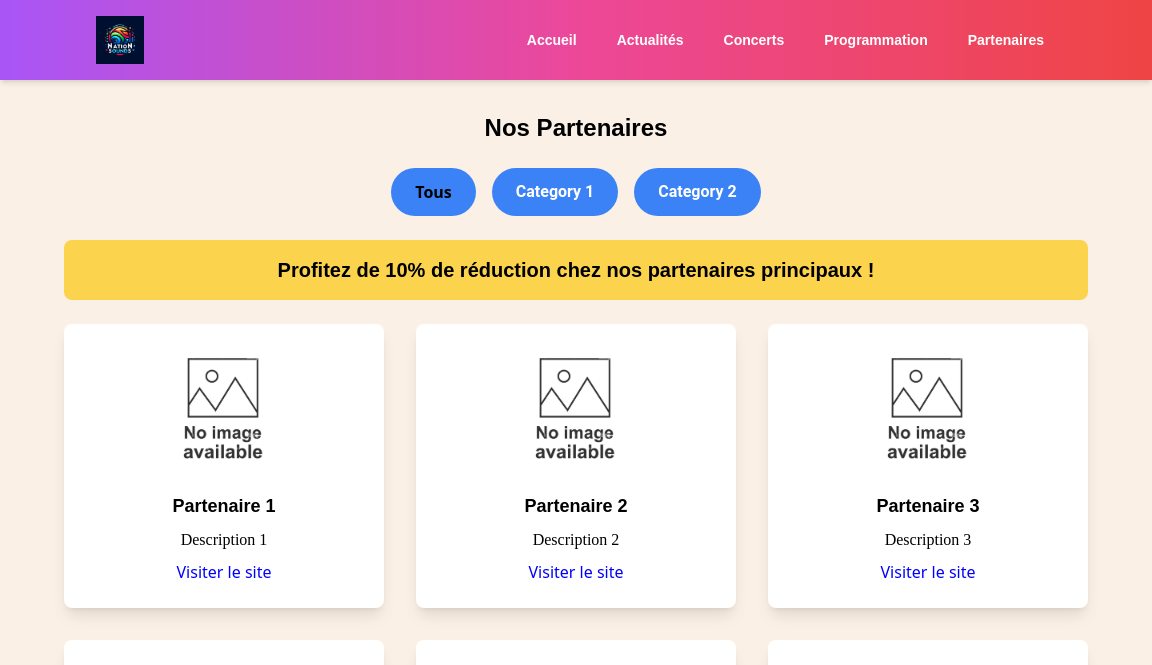
Test: Composant PartnersPage › filtre les partenaires par catégorie
The image size is (1152, 665).
Expected: the heading "Partenaire 1" is shown, [172, 496, 276, 516]
Expected: the heading "Partenaire 2" is shown, [524, 496, 628, 516]
Click the button "Category 1": (555, 192) [492, 168, 618, 216]
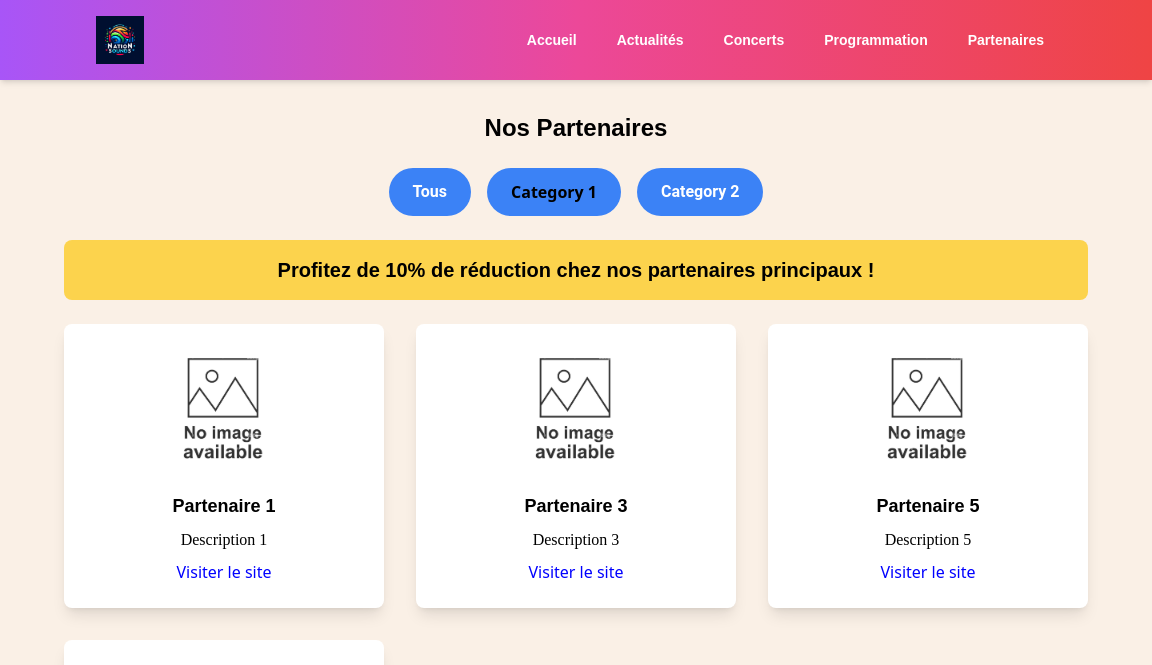
Expected: the heading "Partenaire 1" is shown, [172, 496, 276, 516]
Now the heading "Partenaire 2" is gone
